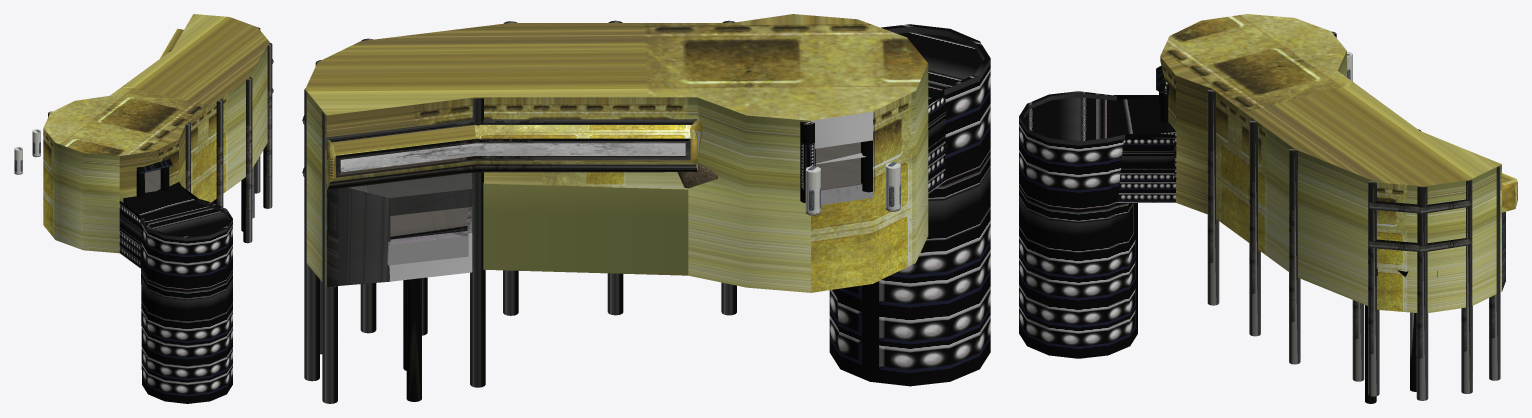
Rendered from building3.gltf.
3 views of the same model, side by side, from view 1: azimuth 30°, elevation 25°; view 2: azimuth 150°, elevation 25°; view 3: azimuth 270°, elevation 25° (orthographic). The views are drawn at different scales.
Visible parts, largest first — view 1: cylinder5, cylinder66, cylinder6, cylinder40, cylinder39, cylinder43, cylinder41, cylinder65, cylinder9, cylinder8, cylinder35; view 2: cylinder5, cylinder66, cylinder6, cylinder38, cylinder42, cylinder36, cylinder33, cylinder10, cylinder39, cylinder9, cylinder8, cylinder40 (+2 smaller); view 3: cylinder5, cylinder66, cylinder35, cylinder43, cylinder41, cylinder40, cylinder39, cylinder6, cylinder36, cylinder42, cylinder37, cylinder33 (+4 smaller).
Part boxes in pixels (x1,y1,x2,y2): cylinder5: [43, 14, 269, 268]; cylinder66: [141, 198, 232, 403]; cylinder6: [123, 169, 198, 219]; cylinder40: [243, 77, 252, 243]; cylinder39: [263, 43, 272, 208]; cylinder43: [214, 99, 223, 207]; cylinder41: [185, 122, 190, 192]; cylinder65: [137, 158, 172, 174]; cylinder9: [32, 129, 40, 157]; cylinder8: [14, 147, 22, 174]; cylinder35: [254, 27, 260, 193]; cylinder5: [305, 14, 945, 292]; cylinder66: [829, 24, 990, 386]; cylinder6: [341, 92, 936, 265]; cylinder38: [470, 98, 485, 387]; cylinder42: [322, 112, 337, 403]; cylinder36: [304, 88, 319, 381]; cylinder33: [406, 153, 639, 401]; cylinder10: [800, 121, 815, 202]; cylinder39: [360, 38, 376, 333]; cylinder9: [805, 166, 820, 215]; cylinder8: [885, 162, 900, 211]; cylinder40: [503, 21, 518, 315]; cylinder5: [1114, 14, 1517, 312]; cylinder66: [1019, 91, 1137, 358]; cylinder35: [1416, 186, 1428, 400]; cylinder43: [1249, 119, 1260, 336]; cylinder41: [1207, 88, 1219, 305]; cylinder40: [1289, 147, 1300, 364]; cylinder39: [1368, 180, 1379, 396]; cylinder6: [1113, 95, 1176, 180]; cylinder36: [1461, 180, 1472, 393]; cylinder42: [1489, 166, 1500, 380]; cylinder37: [1352, 300, 1364, 381]; cylinder33: [1410, 312, 1416, 391].
Bounding box in the file's own units: 7.46 × 5.22 × 8.53.
Materials: 17 (16 with a texture image).
